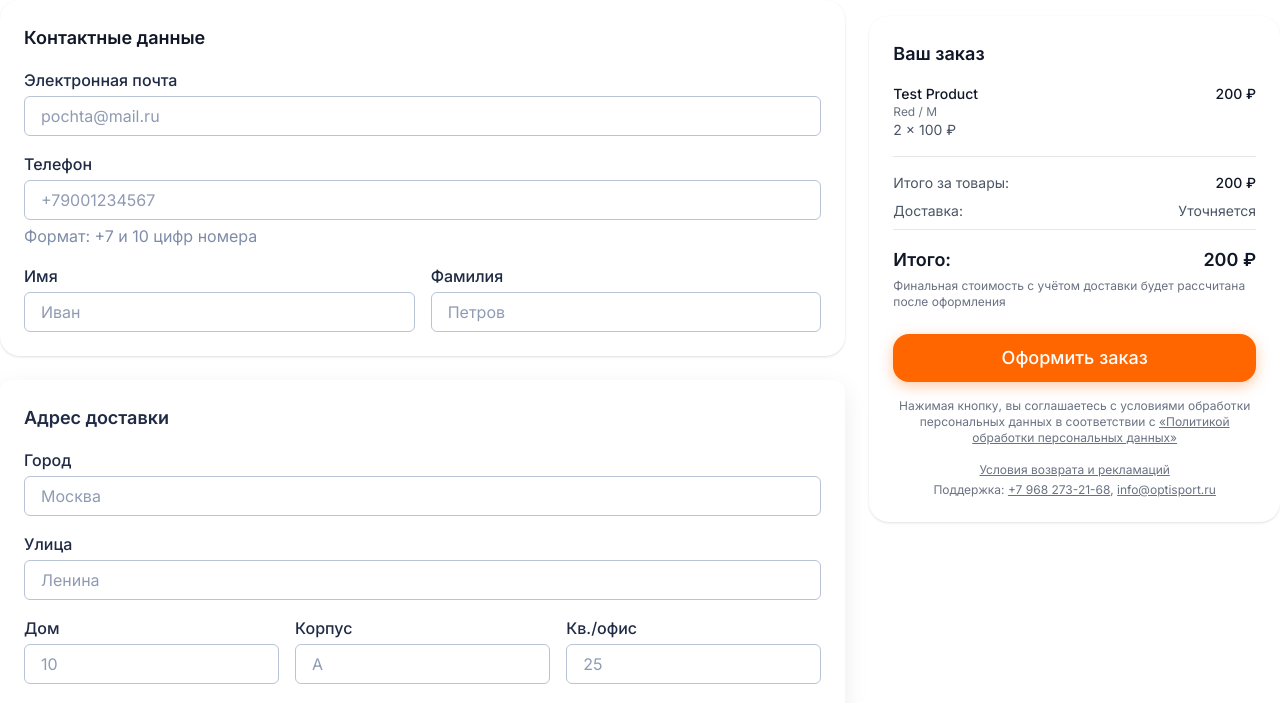
Test: CheckoutForm › Валидация формы › должен показывать ошибку при некорректном формате email
Type "invalid-email" into the field labelled "Электронная почта" at {"x": 423, "y": 116}, box [24,96,821,136]
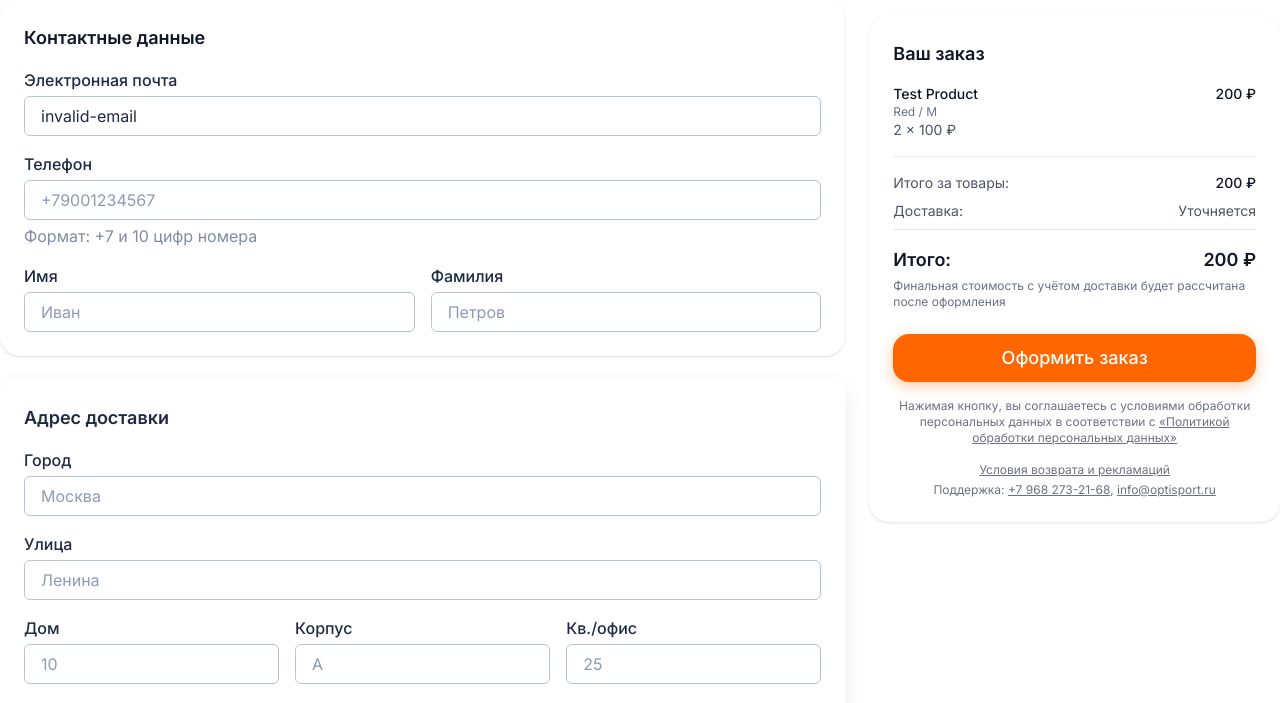
Leave the field labelled "Электронная почта", box [24,96,821,136]
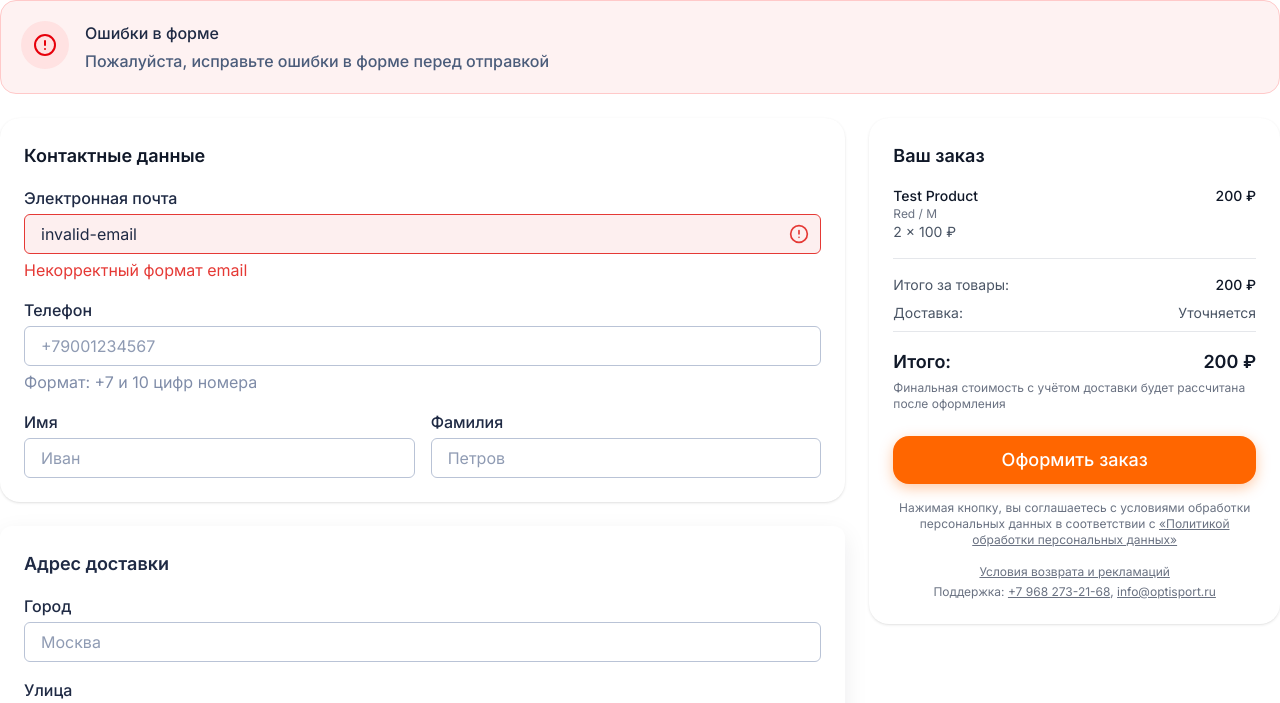
Expected: the text "Некорректный формат email" is shown, [24,260,247,280]
